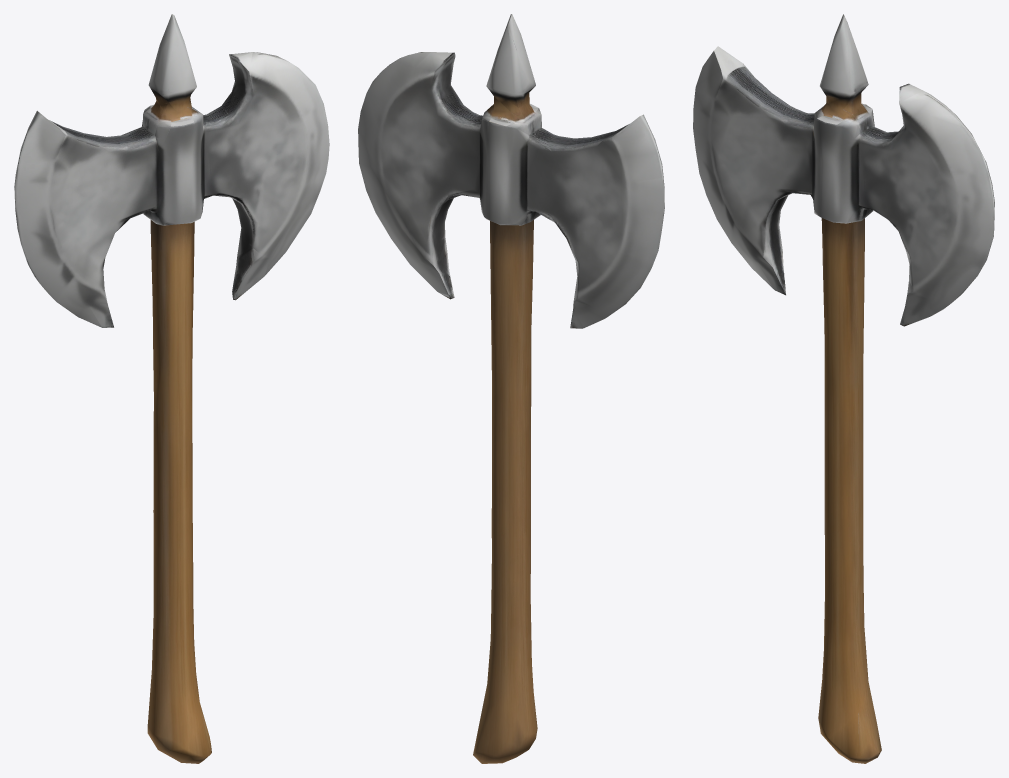
Rendered from wpn_axe.glb.
The picture shows the model from 3 angles, left to right: view 1: azimuth 30°, elevation 25°; view 2: azimuth 150°, elevation 25°; view 3: azimuth 330°, elevation 25°; orthographic projection.
Size of the model in its own units: 0.8645 by 2 by 0.144.
Materials: 1 (1 with a texture image).
